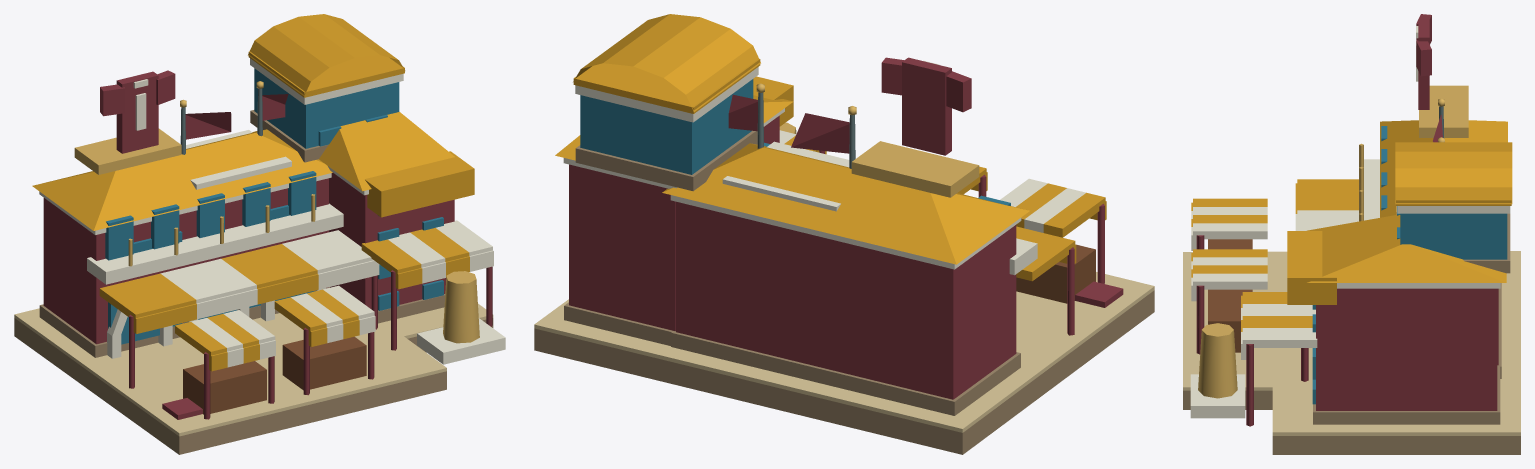
File: club-shop-lv4.glb
The picture shows the model from 3 angles, left to right: view 1: azimuth 30°, elevation 25°; view 2: azimuth 150°, elevation 25°; view 3: azimuth 270°, elevation 25°; orthographic projection. The views are drawn at different scales.
Parts seen in each view (by area): view 1: foundation_sand, market_row_roof_ochre, awnings_ochre, awnings_white, market_row_burgundy, foundation_stoneDark, showroom_roof_ochre, market_stalls_wood, shop_balcony_white, retail_corner_roof_ochre, upper_shop_windows_glass, retail_corner_burgundy (+23 smaller); view 2: market_row_burgundy, market_row_roof_ochre, retail_corner_burgundy, foundation_sand, foundation_stoneDark, showroom_roof_ochre, showroom_glass, jersey_sign_burgundy, market_row_stoneDark, sign_plinth_gold, awnings_ochre, showroom_stoneDark (+13 smaller); view 3: retail_corner_burgundy, foundation_sand, retail_corner_roof_ochre, showroom_roof_ochre, awnings_white, awnings_ochre, foundation_stoneDark, showroom_glass, corner_gate_ochre, market_row_roof_ochre, retail_corner_stoneDark, club_trophy_gold (+13 smaller).
Boxes of the visible parts, left/top/right/bottom form: foundation_sand: left=14, top=303, right=493, bottom=436; market_row_roof_ochre: left=32, top=129, right=332, bottom=230; awnings_ochre: left=99, top=228, right=469, bottom=359; awnings_white: left=160, top=220, right=492, bottom=351; market_row_burgundy: left=43, top=178, right=328, bottom=344; foundation_stoneDark: left=14, top=318, right=493, bottom=454; showroom_roof_ochre: left=248, top=14, right=405, bottom=97; market_stalls_wood: left=183, top=336, right=366, bottom=414; shop_balcony_white: left=87, top=203, right=343, bottom=284; retail_corner_roof_ochre: left=319, top=112, right=454, bottom=191; upper_shop_windows_glass: left=105, top=171, right=316, bottom=260; retail_corner_burgundy: left=329, top=173, right=454, bottom=309; market_row_burgundy: left=676, top=201, right=1016, bottom=399; market_row_roof_ochre: left=662, top=143, right=1029, bottom=264; retail_corner_burgundy: left=569, top=115, right=779, bottom=331; foundation_sand: left=534, top=272, right=1154, bottom=432; foundation_stoneDark: left=534, top=290, right=1154, bottom=454; showroom_roof_ochre: left=573, top=14, right=760, bottom=113; showroom_glass: left=580, top=79, right=753, bottom=174; jersey_sign_burgundy: left=881, top=57, right=971, bottom=155; market_row_stoneDark: left=671, top=332, right=1020, bottom=415; sign_plinth_gold: left=851, top=141, right=979, bottom=197; awnings_ochre: left=784, top=135, right=1105, bottom=281; showroom_stoneDark: left=575, top=130, right=757, bottom=191; retail_corner_burgundy: left=1316, top=288, right=1497, bottom=410; foundation_sand: left=1183, top=251, right=1520, bottom=435; retail_corner_roof_ochre: left=1307, top=215, right=1506, bottom=282; showroom_roof_ochre: left=1395, top=142, right=1512, bottom=205; awnings_white: left=1193, top=207, right=1358, bottom=347; awnings_ochre: left=1193, top=179, right=1358, bottom=327; foundation_stoneDark: left=1183, top=390, right=1520, bottom=454; showroom_glass: left=1400, top=213, right=1507, bottom=259; corner_gate_ochre: left=1287, top=231, right=1336, bottom=304; market_row_roof_ochre: left=1380, top=120, right=1507, bottom=217; retail_corner_stoneDark: left=1313, top=366, right=1500, bottom=424; club_trophy_gold: left=1198, top=323, right=1237, bottom=398.
Size of the model in its own units: 1 by 0.7283 by 0.7861.
